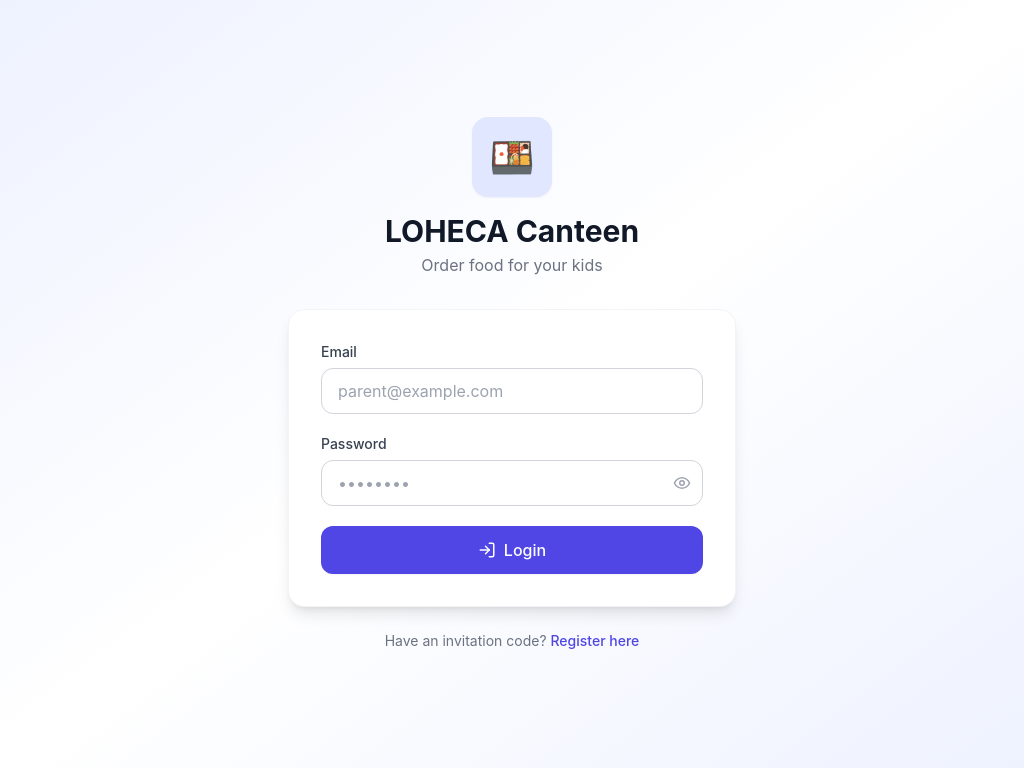
Test case: Login Page › Error Handling › displays error message on login failure
Type "wrong@test.com" into the field labelled "Email" at (512, 391), box [321, 368, 703, 414]
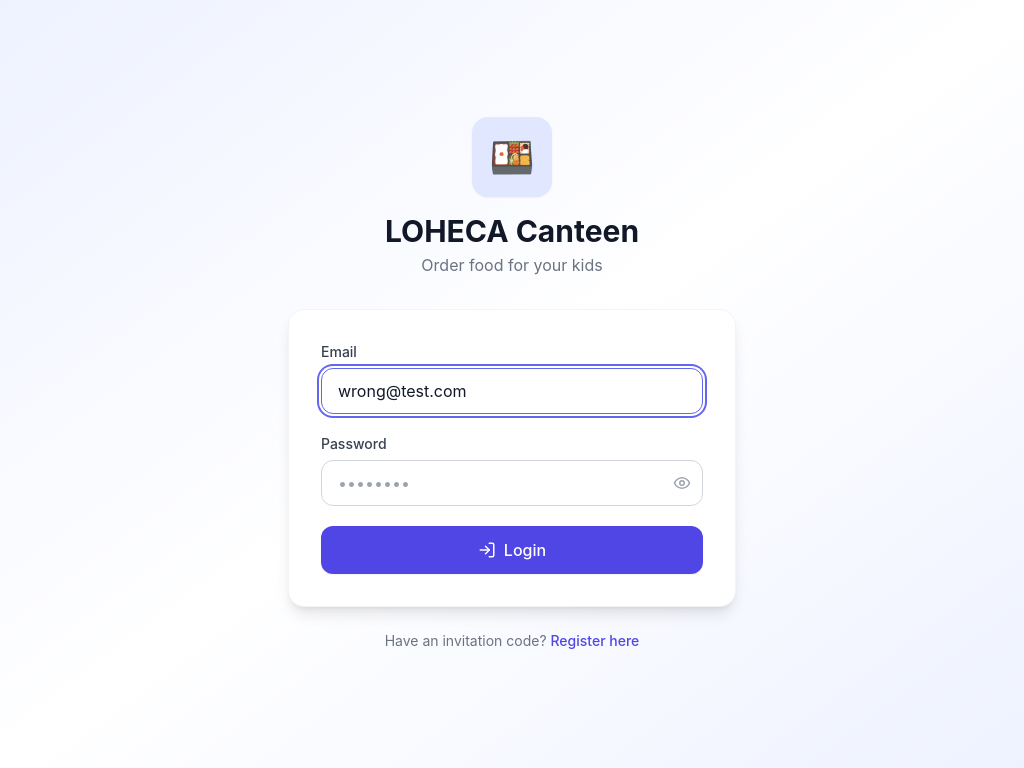
Type "wrongpassword" into the password field labelled "Password" at (512, 483), box [321, 460, 703, 506]
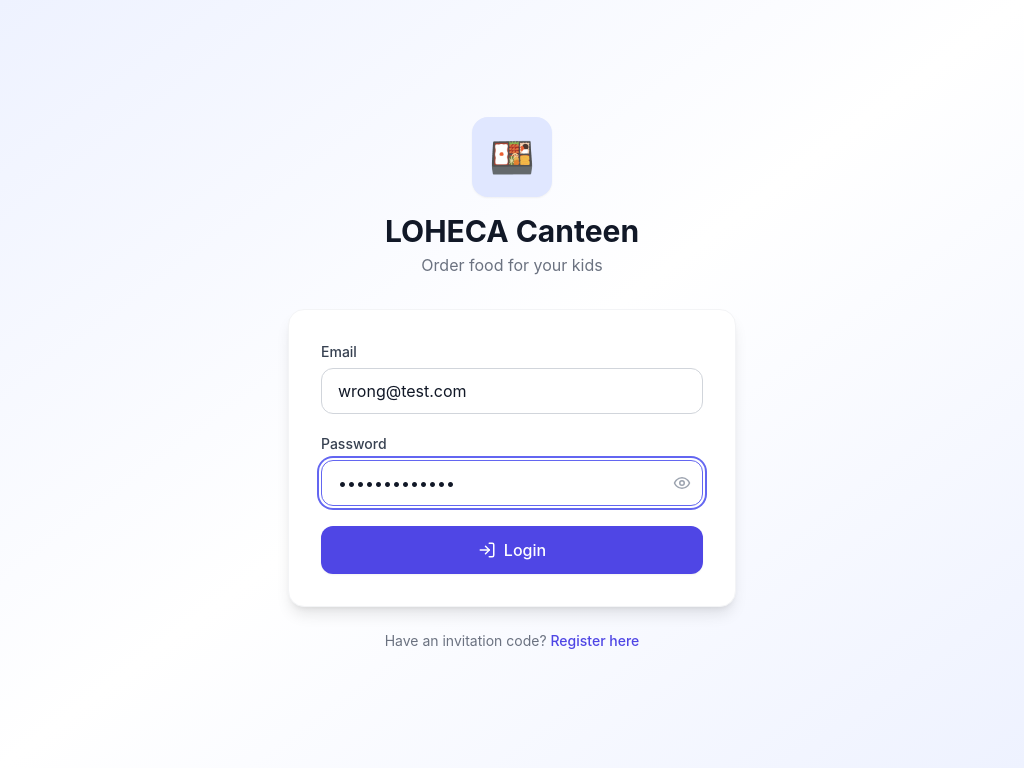
Click the button "Login" at (512, 550), box [321, 526, 703, 574]
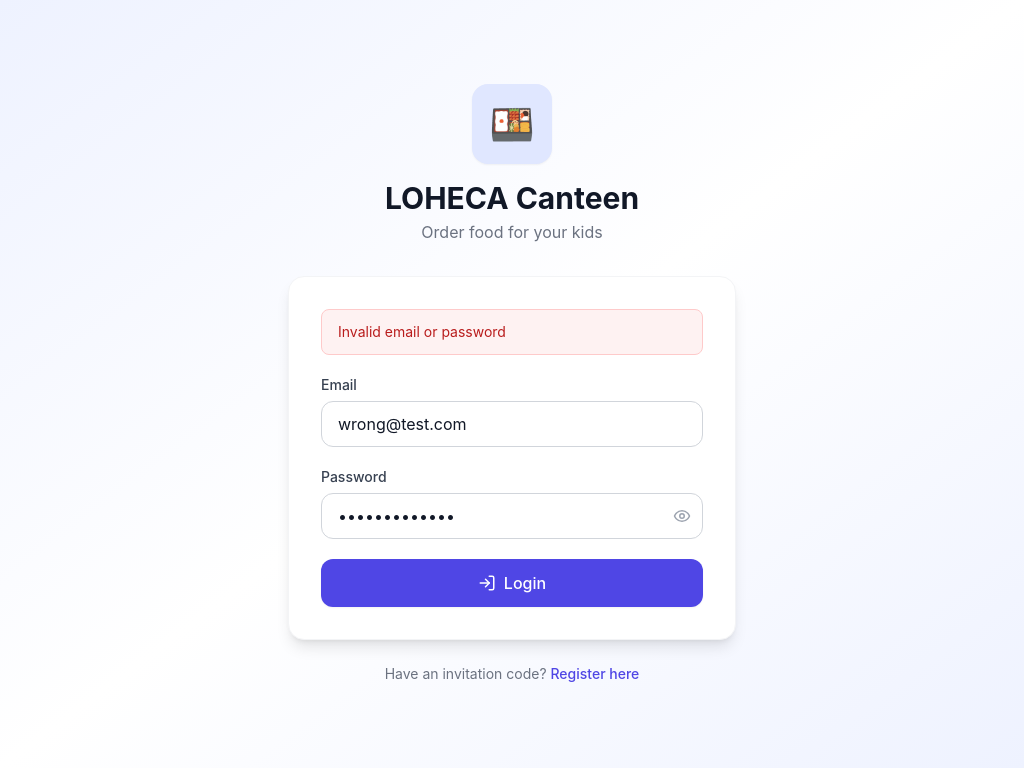
Result: the text "Invalid email or password" is shown at [321, 309, 703, 355]
